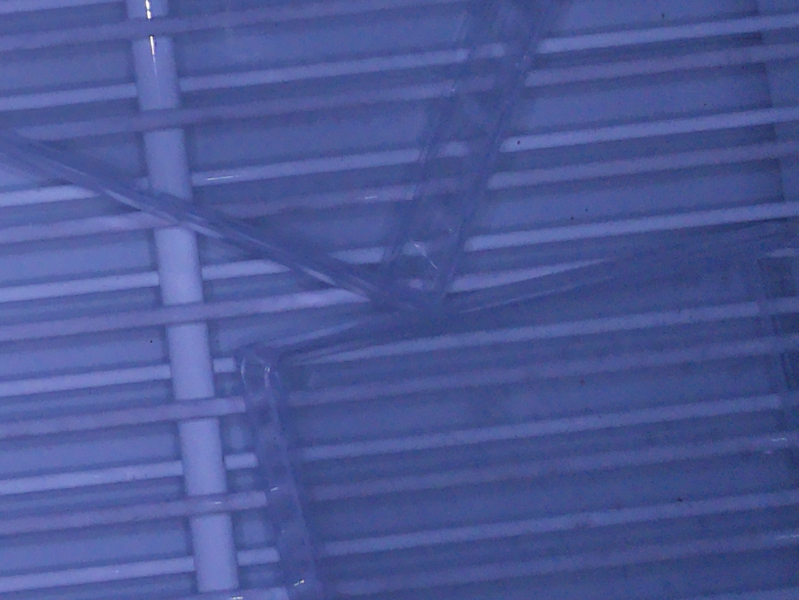plate: (231, 219, 799, 600), (1, 1, 574, 312)
